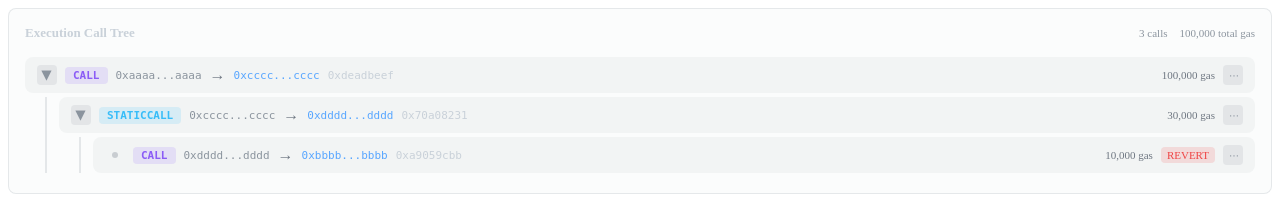
Test: CallTree › collapses children when the expand arrow is clicked
expect the text "0x70a08231" is shown: met, box [401,108,468,122]
Note: First "▶" is the root's expand arrow
Step 1. Click the button "▶" in the row of "0xaaaa...aaaa" → [47, 75], box [37,65,57,85]
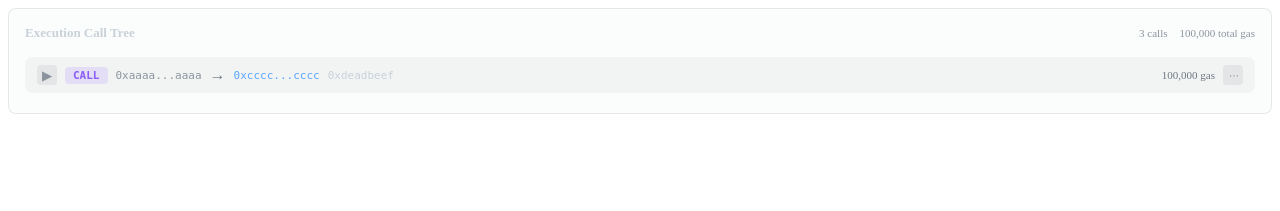
expect the text "0x70a08231" is gone: met
